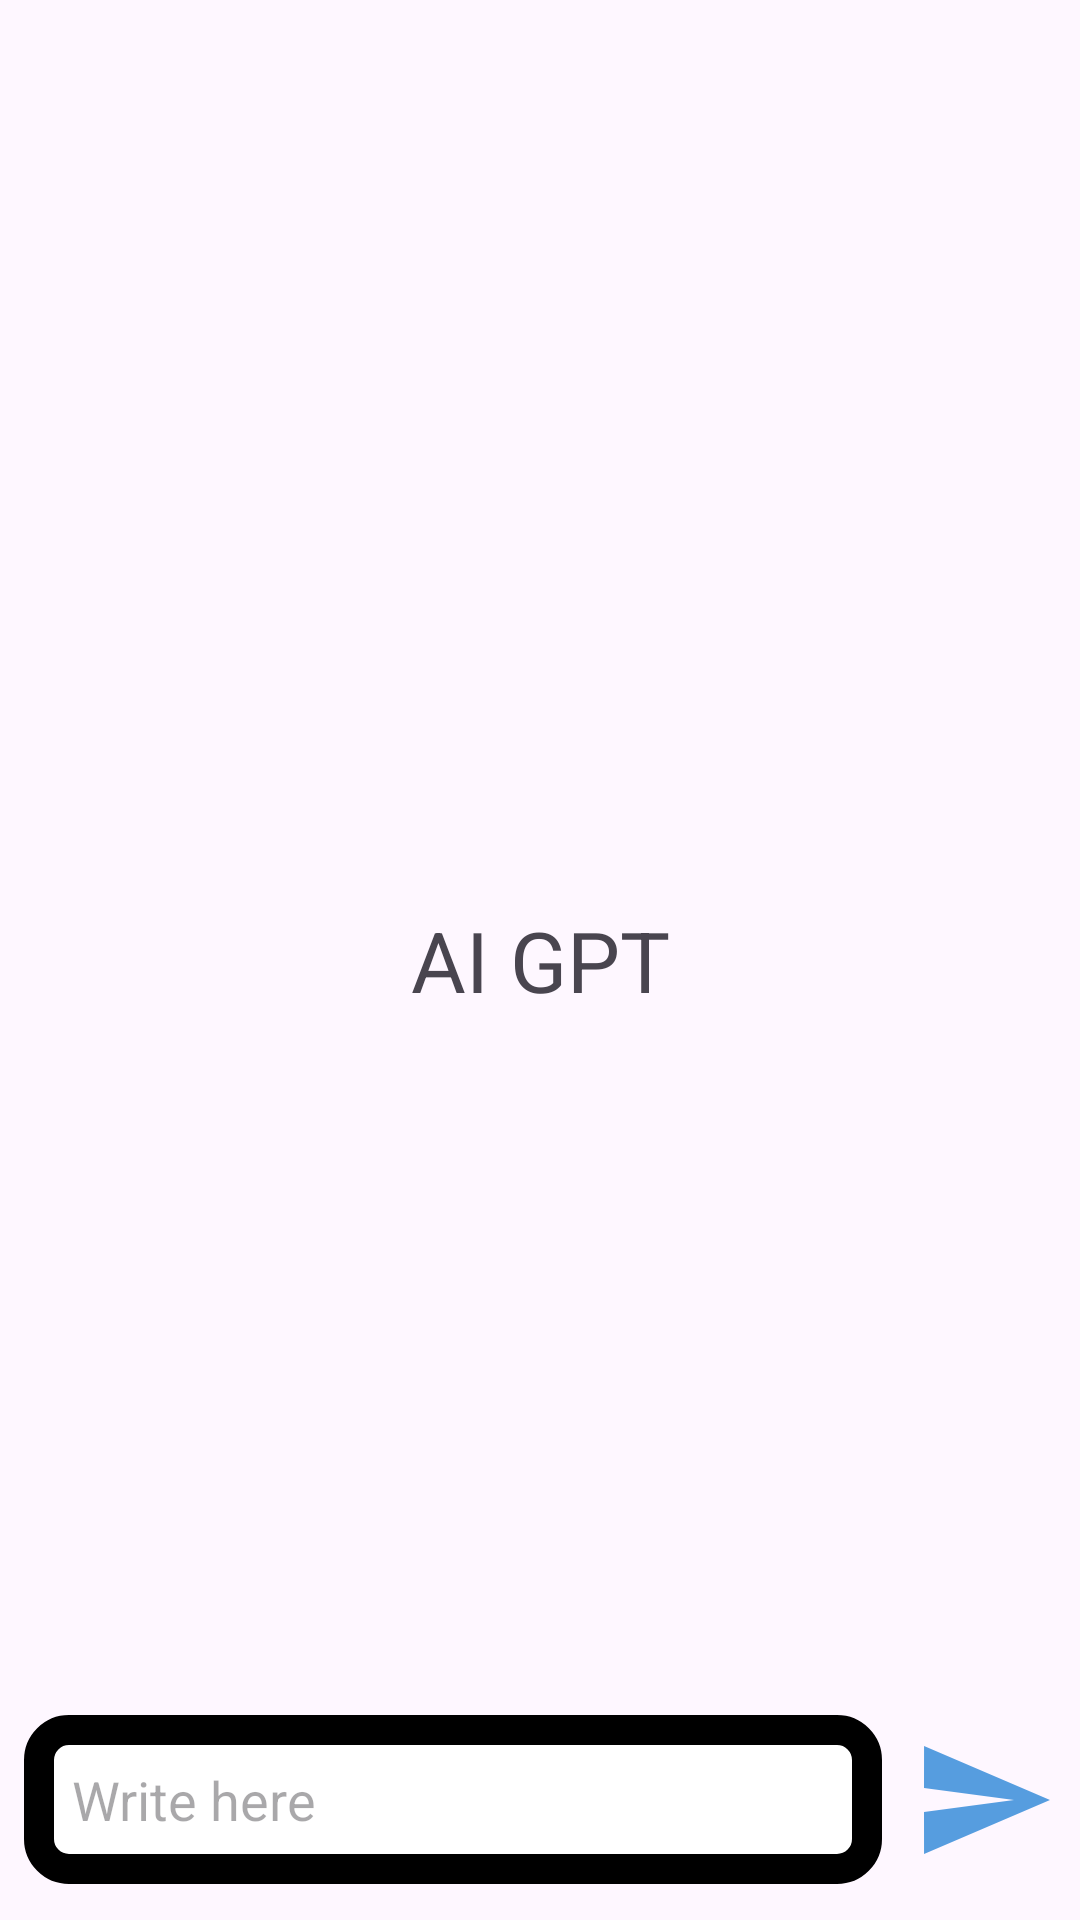

Icon click points for this 1080px x 1920px phone screenshot, format (x=x, y=y):
send: (x=987, y=1800)
